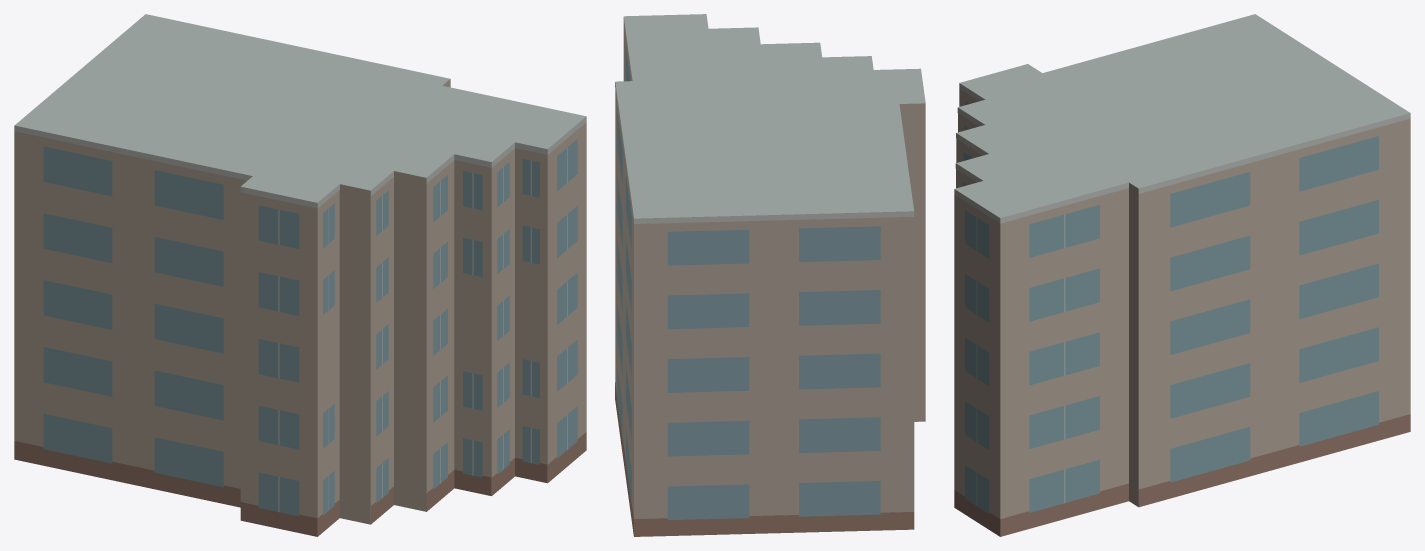
Rendered from survey-upis-32665492.glb.
3 views of the same model, side by side, from view 1: azimuth 30°, elevation 25°; view 2: azimuth 150°, elevation 25°; view 3: azimuth 270°, elevation 25° (orthographic). The views are drawn at different scales.
Visible parts, largest first — view 1: survey-upis-32665492.tmp; view 2: survey-upis-32665492.tmp; view 3: survey-upis-32665492.tmp.
Part boxes in pixels (<box>): survey-upis-32665492.tmp: <box>14,14,586,536</box>; survey-upis-32665492.tmp: <box>615,14,925,536</box>; survey-upis-32665492.tmp: <box>954,14,1410,536</box>.
Bounding box in the file's own units: 19.45 × 14.15 × 18.37.
